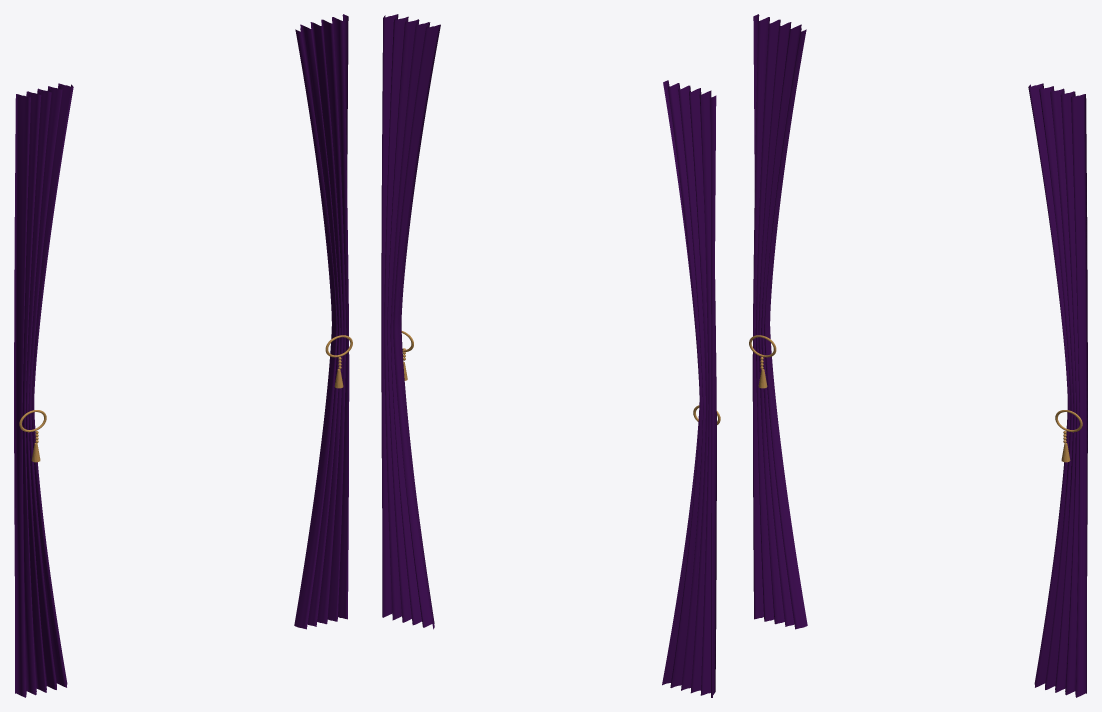
File: stage-curtains.glb
3 renders of one model, left to right at view 1: azimuth 30°, elevation 25°; view 2: azimuth 150°, elevation 25°; view 3: azimuth 330°, elevation 25°, orthographic.
Visible parts, largest first — view 1: Curtain_left, Curtain_right; view 2: Curtain_right, Curtain_left; view 3: Curtain_right, Curtain_left.
Boxes of the visible parts, x1,y1,x2,y2 form: Curtain_left: (14,83,73,697); Curtain_right: (294,14,349,629); Curtain_right: (381,14,440,629); Curtain_left: (662,80,716,697); Curtain_right: (1028,83,1087,697); Curtain_left: (752,14,807,629).
Size of the model in its own units: 2.07 by 3.55 by 0.1178.
